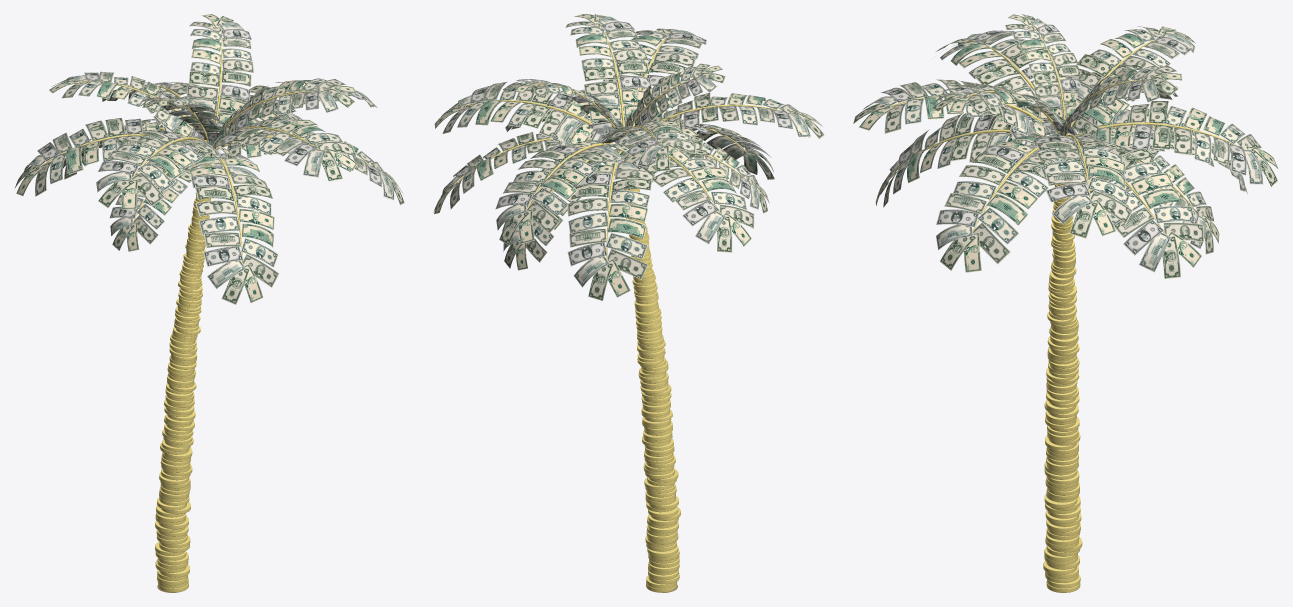
Rendered from palm2.glb.
3 renders of one model, left to right at view 1: azimuth 30°, elevation 25°; view 2: azimuth 150°, elevation 25°; view 3: azimuth 270°, elevation 25°, orthographic. The views are drawn at different scales.
Parts seen in each view (by area): view 1: palm; view 2: palm; view 3: palm.
Boxes of the visible parts, left/top/right/bottom form: palm: left=15, top=14, right=404, bottom=592; palm: left=433, top=14, right=824, bottom=592; palm: left=853, top=14, right=1278, bottom=592.
Size of the model in its own units: 5.3 by 7.84 by 5.43.
Materials: 1 (1 with a texture image).
